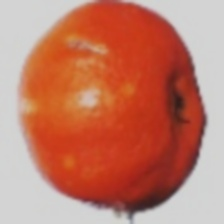tangerine: (8, 13, 196, 193)
